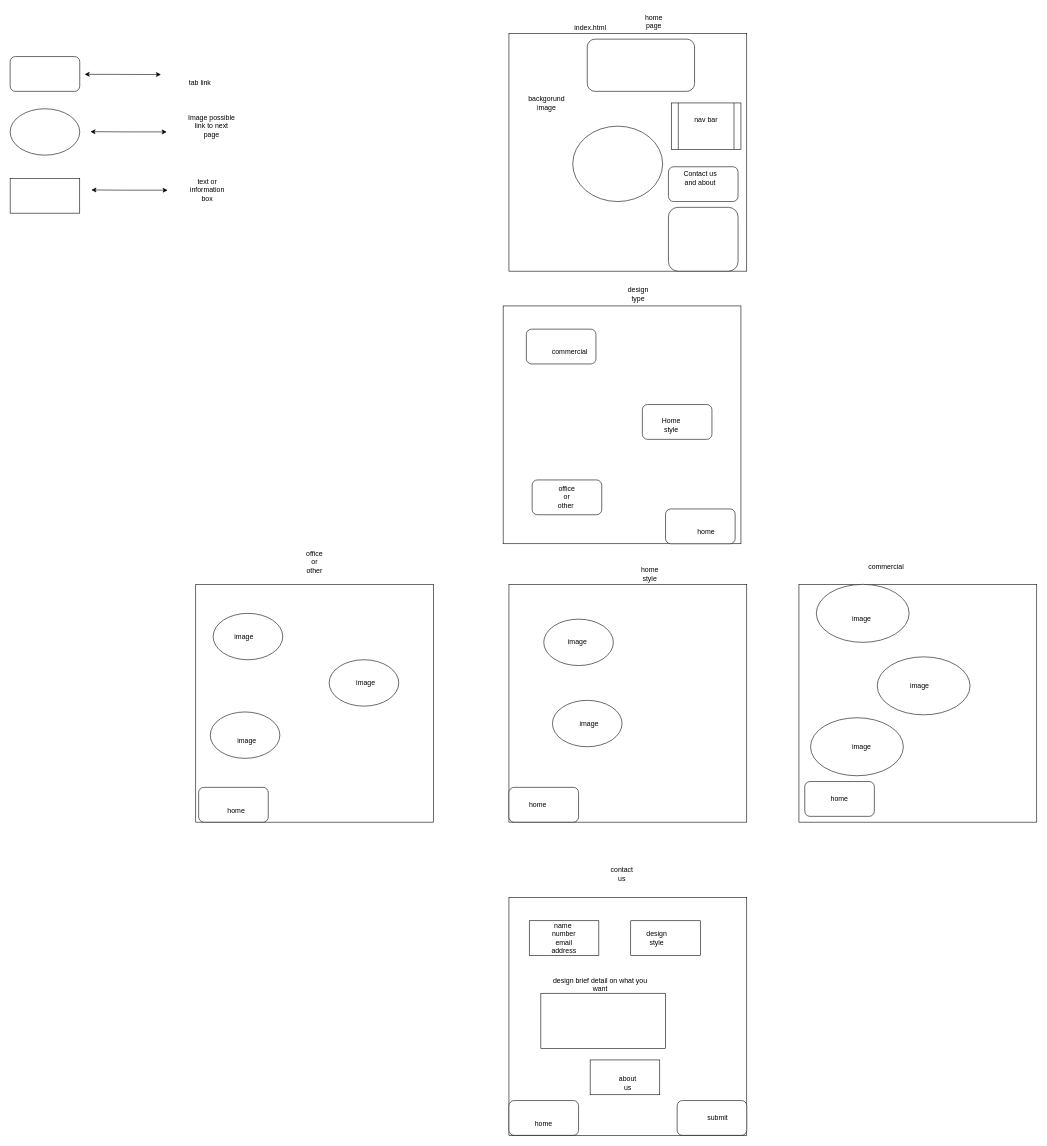
Some shapes in this 1047 by 1146 pixel diagram are drawn without their labels. Here are the shapes that lost their labels. From the top down, the centre of each, then its label:
At (x=641, y=65): "container conversions".
At (x=617, y=164): "Logo".
At (x=703, y=239): "Homestyle Commercial Office and other".
